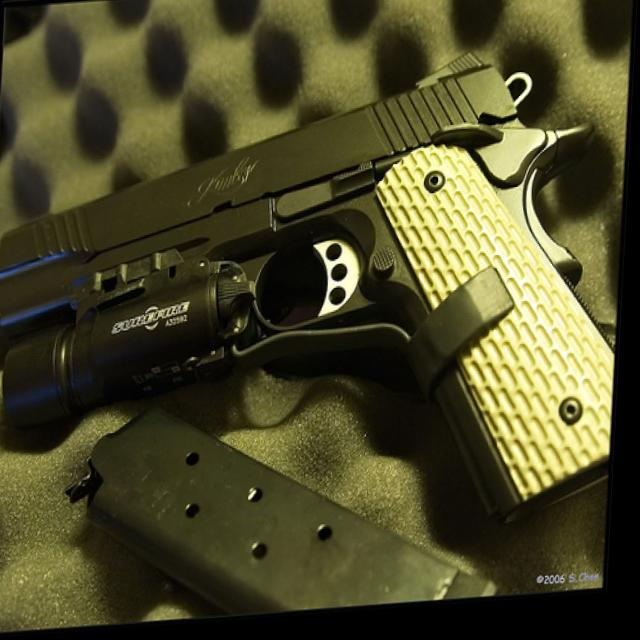handgun: (0, 48, 628, 564)
